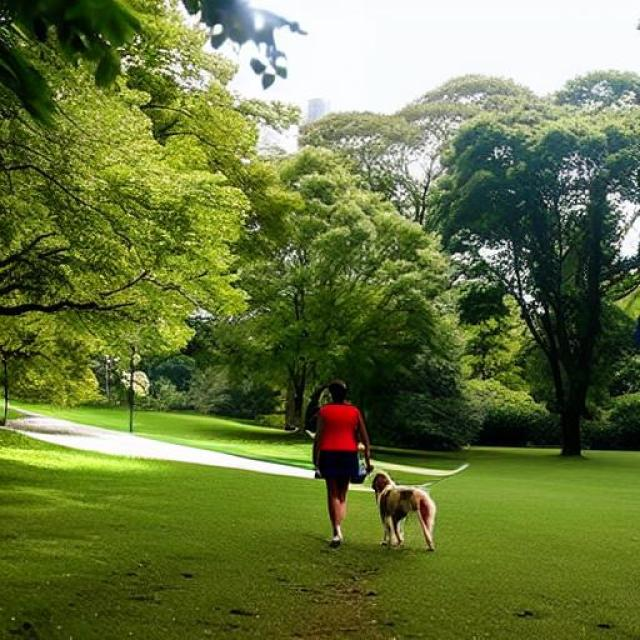Unleashed_Dog: (332, 448, 437, 554)
